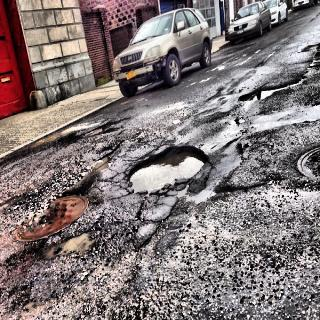pothole: (127, 131, 229, 217)
